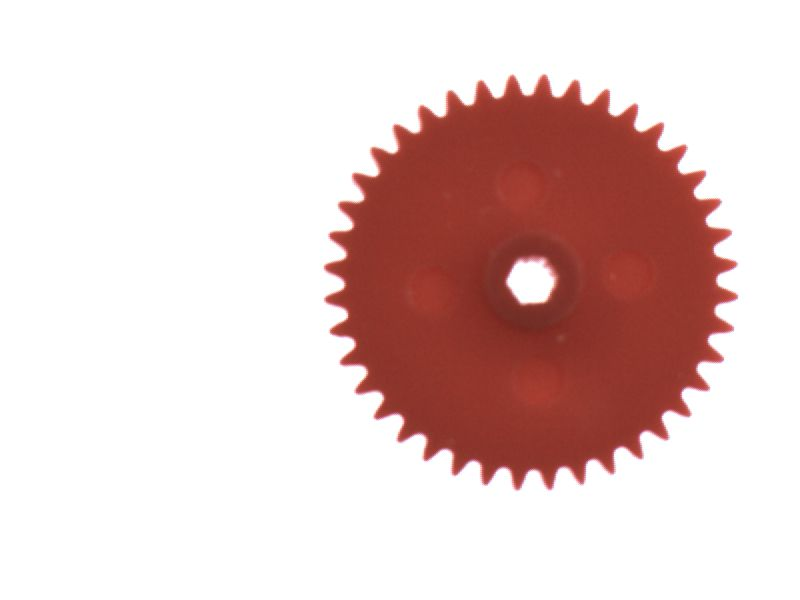good_product: (311, 56, 747, 505)
